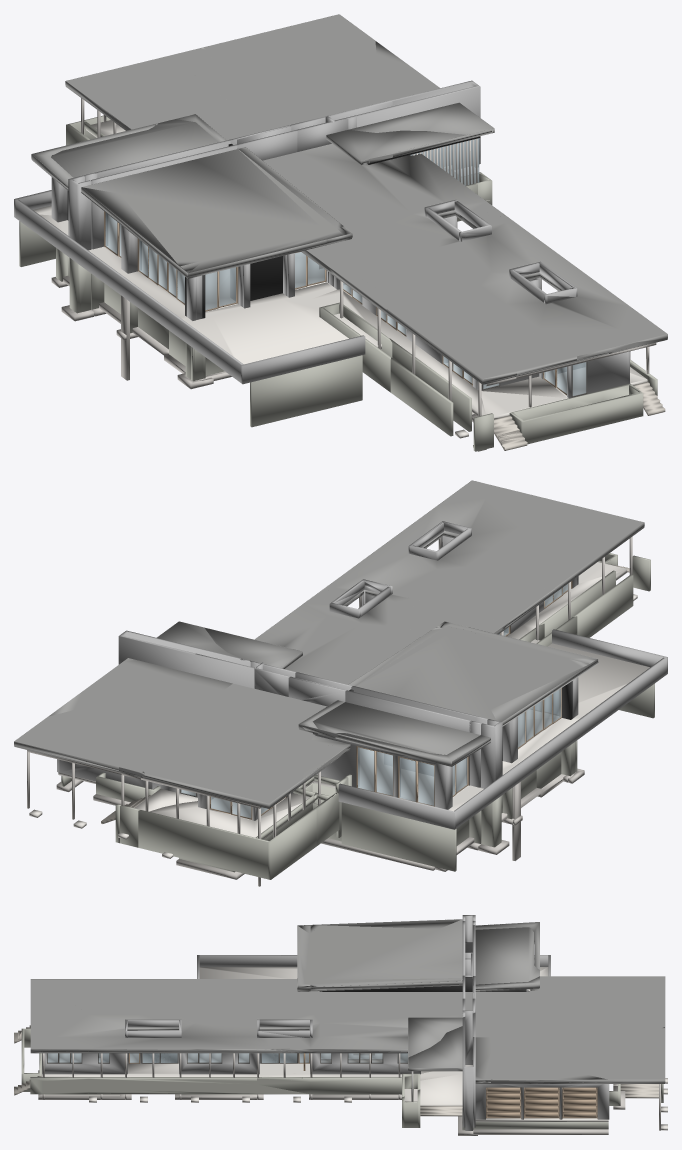
3 renders of one model, top to bottom at view 1: azimuth 30°, elevation 25°; view 2: azimuth 150°, elevation 25°; view 3: azimuth 270°, elevation 25°, orthographic. The views are drawn at different scales.
Parts seen in each view (by area): view 1: storey4_roof~m0, storey4_roof~m8, storey4_roof~m3, storey4_roof~m7, storey4_roof~m4, storey4_roof~m2, storey3_floor~m9, storey3_wall__vertical-stained-wood-siding-787878~m9, storey4_roof~m9, storey3_wall__concrete-cast-in-place-gray-818476~m9, storey4_roof~m5, storey3_wall__concrete-cast-in-place-gray-818476~m3 (+28 smaller); view 2: storey4_roof~m7, storey4_roof~m0, storey4_roof~m3, storey4_roof~m8, storey4_roof~m2, storey4_roof~m4, storey3_wall__vertical-stained-wood-siding-787878~m9, storey3_wall__concrete-cast-in-place-gray-818476~m2, storey3_wall__concrete-cast-in-place-gray-818476~m9, storey4_roof~m9, storey4_roof~m5, storey4_roof~m6 (+29 smaller); view 3: storey4_roof~m7, storey4_roof~m3, storey4_roof~m0, storey4_roof~m8, storey4_roof~m2, storey4_roof~m4, storey3_wall__concrete-cast-in-place-gray-818476~m3, storey4_roof~m1, storey3_wall__vertical-stained-wood-siding-787878~m3, storey4_roof~m5, storey3_door~m7, storey4_roof~m6 (+22 smaller).
Part boxes in pixels (x1,y1,x2,y2): storey4_roof~m0: (305, 224, 540, 384); storey4_roof~m8: (83, 149, 335, 265); storey4_roof~m3: (431, 208, 667, 376); storey4_roof~m7: (227, 14, 494, 134); storey4_roof~m4: (298, 129, 507, 249); storey4_roof~m2: (65, 47, 267, 142); storey3_floor~m9: (33, 205, 381, 364); storey3_wall__vertical-stained-wood-siding-787878~m9: (14, 190, 365, 384); storey4_roof~m9: (31, 107, 392, 313); storey3_wall__concrete-cast-in-place-gray-818476~m9: (19, 221, 362, 427); storey4_roof~m5: (194, 41, 327, 130); storey3_wall__concrete-cast-in-place-gray-818476~m3: (509, 359, 657, 444); storey4_roof~m7: (14, 621, 254, 772); storey4_roof~m0: (388, 512, 644, 634); storey4_roof~m3: (313, 480, 611, 604); storey4_roof~m8: (356, 628, 583, 720); storey4_roof~m2: (140, 697, 344, 808); storey4_roof~m4: (182, 588, 419, 703); storey3_wall__vertical-stained-wood-siding-787878~m9: (338, 629, 667, 829); storey3_wall__concrete-cast-in-place-gray-818476~m2: (138, 776, 316, 879); storey3_wall__concrete-cast-in-place-gray-818476~m9: (313, 683, 654, 871); storey4_roof~m9: (303, 587, 598, 778); storey4_roof~m5: (119, 690, 278, 777); storey4_roof~m6: (307, 702, 480, 754); storey4_roof~m7: (408, 1026, 665, 1083); storey4_roof~m3: (30, 992, 296, 1053); storey4_roof~m0: (30, 972, 310, 1014); storey4_roof~m8: (306, 919, 462, 991); storey4_roof~m2: (475, 976, 665, 1028); storey4_roof~m4: (257, 1014, 490, 1066); storey3_wall__concrete-cast-in-place-gray-818476~m3: (21, 1028, 309, 1094); storey4_roof~m1: (310, 978, 472, 1014); storey3_wall__vertical-stained-wood-siding-787878~m3: (42, 1019, 303, 1074); storey4_roof~m5: (491, 1014, 665, 1037); storey3_door~m7: (486, 1087, 597, 1118); storey4_roof~m6: (475, 927, 549, 991).
Size of the model in its own units: 28.28 by 11.54 by 50.53.
